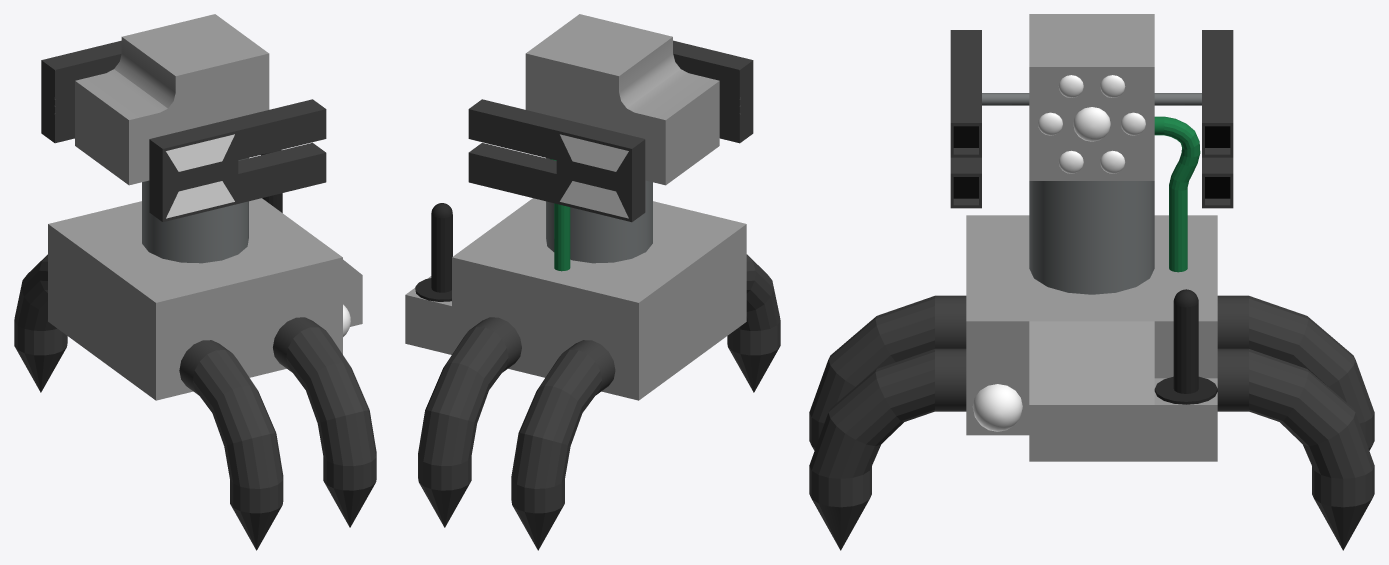
The model's file is Robot_Type3.fbx.
3 renders of one model, left to right at view 1: azimuth 30°, elevation 25°; view 2: azimuth 150°, elevation 25°; view 3: azimuth 270°, elevation 25°, orthographic. The views are drawn at different scales.
Parts seen in each view (by area): view 1: Robot_Type3; view 2: Robot_Type3; view 3: Robot_Type3, Lights_Type3.
Boxes of the visible parts, x1,y1,x2,y2 form: Robot_Type3: (14,14,376,550); Robot_Type3: (405,14,780,550); Robot_Type3: (809,14,1374,550); Lights_Type3: (972,75,1145,431).
Bounding box in the file's own units: 5 × 8.5 × 9.
